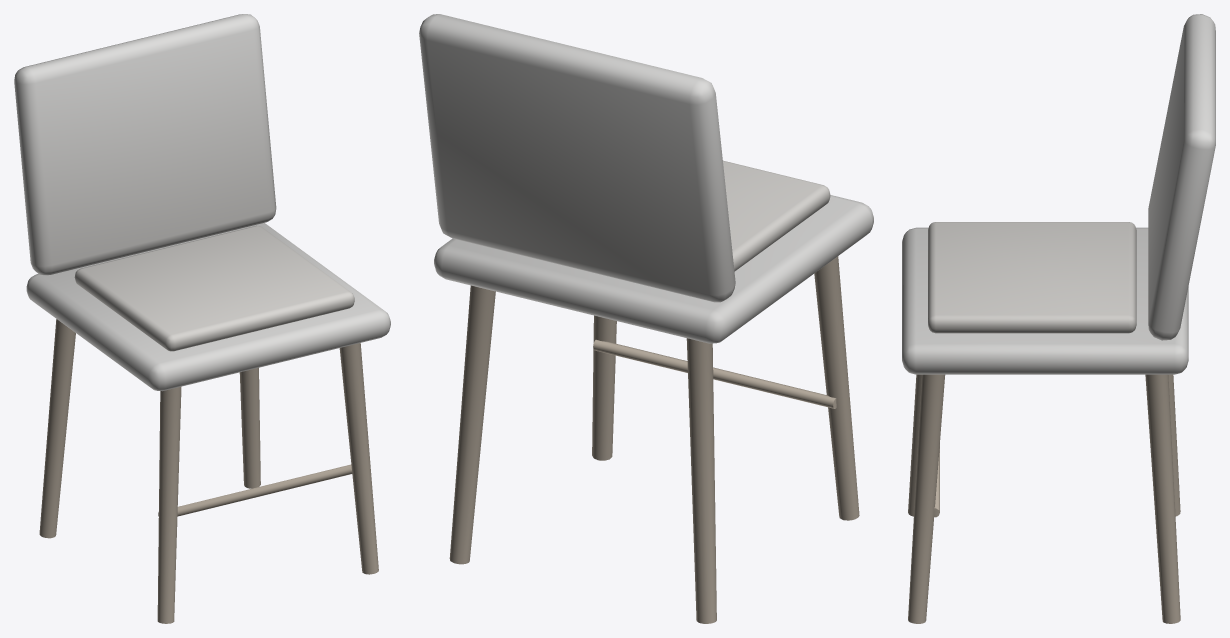
File: white_chair.glb
The picture shows the model from 3 angles, left to right: view 1: azimuth 30°, elevation 25°; view 2: azimuth 150°, elevation 25°; view 3: azimuth 270°, elevation 25°; orthographic projection. The views are drawn at different scales.
Parts seen in each view (by area): view 1: white_chair; view 2: white_chair; view 3: white_chair.
Part boxes in pixels (box(x1,y1,x2,y2)): white_chair: box(14, 14, 390, 623); white_chair: box(419, 14, 873, 623); white_chair: box(902, 14, 1215, 623).
Size of the model in its own units: 0.4606 by 0.8388 by 0.482.
